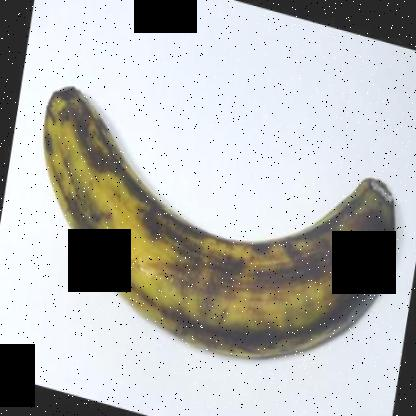overripe: (26, 79, 400, 381)
rotten: (326, 171, 406, 344)
